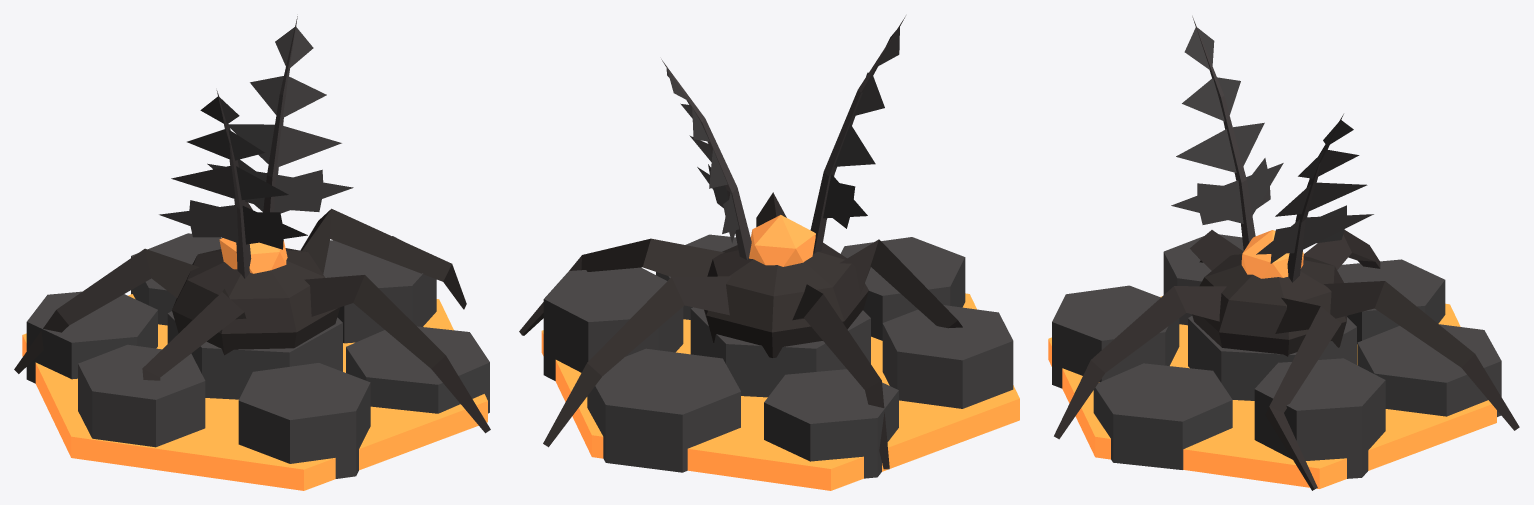
Rendered from plant_t3_picked.fbx.
3 renders of one model, left to right at view 1: azimuth 30°, elevation 25°; view 2: azimuth 150°, elevation 25°; view 3: azimuth 270°, elevation 25°, orthographic. The views are drawn at different scales.
Parts seen in each view (by area): view 1: plant_t3_picked; view 2: plant_t3_picked; view 3: plant_t3_picked.
Boxes of the visible parts, <box> form: plant_t3_picked: <box>14,16,490,490</box>; plant_t3_picked: <box>519,16,1019,490</box>; plant_t3_picked: <box>1048,16,1519,490</box>.
Size of the model in its own units: 25.96 by 19.76 by 24.91.
